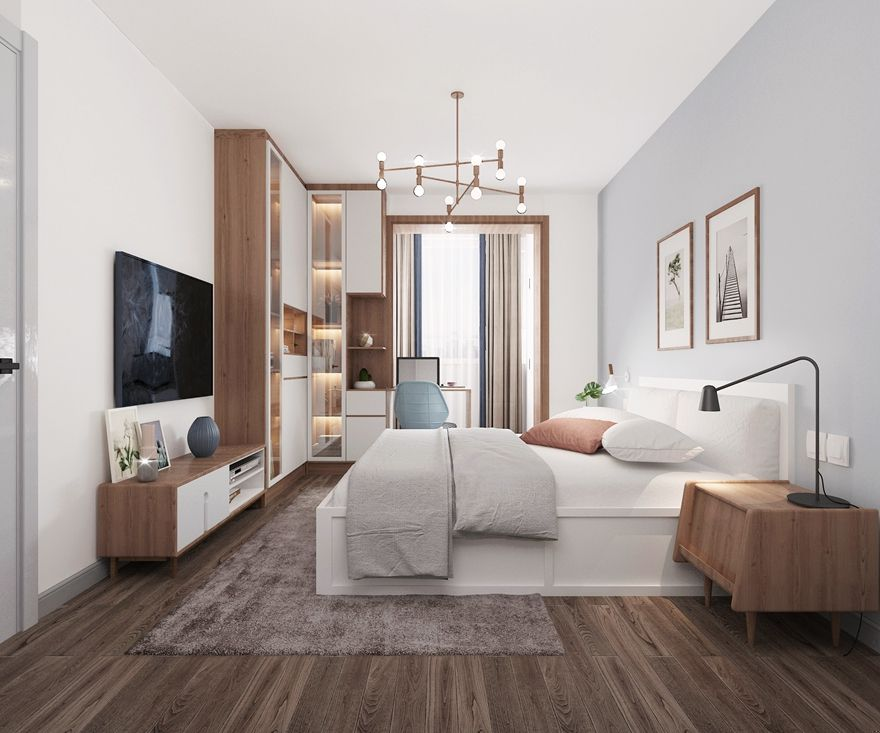床: (313, 419, 729, 604)
枕头: (521, 405, 722, 467)
灯: (367, 81, 531, 226), (705, 351, 844, 508), (601, 362, 629, 403)
